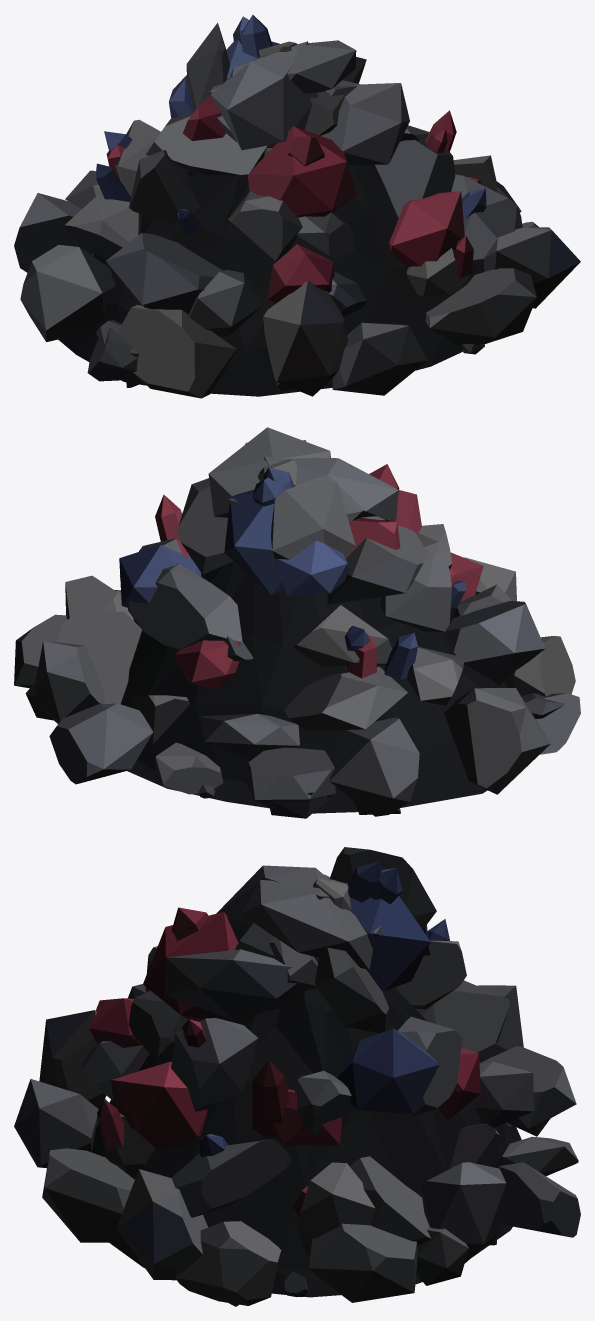
Rendered from low_poly_stone_ore.glb.
3 views of the same model, one above another, from view 1: azimuth 30°, elevation 25°; view 2: azimuth 150°, elevation 25°; view 3: azimuth 270°, elevation 25° (orthographic). The views are drawn at different scales.
Visible parts, largest first — view 1: Rock, Crystal; view 2: Rock, Crystal; view 3: Rock, Crystal.
Boxes of the visible parts, x1=… form: Rock: x1=14, y1=22, x2=580, y2=398; Crystal: x1=95, y1=15, x2=486, y2=302; Rock: x1=14, y1=427, x2=580, y2=818; Crystal: x1=119, y1=464, x2=483, y2=689; Rock: x1=14, y1=847, x2=580, y2=1306; Crystal: x1=89, y1=861, x2=480, y2=1216.
Size of the model in its own units: 1.8 by 0.95 by 1.55.
